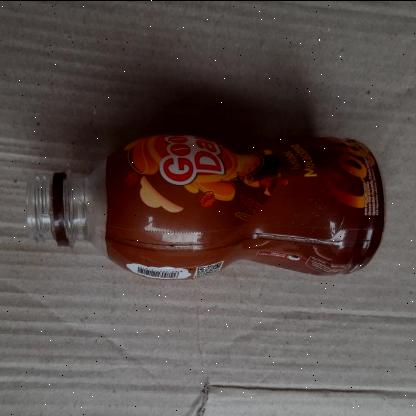Plastic Bottle: (26, 135, 385, 277)
